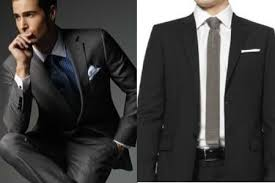F_M_suit jacket: (138, 10, 274, 182), (4, 26, 141, 162)
F_belt: (189, 144, 237, 166)
F_tie: (199, 15, 230, 155)
